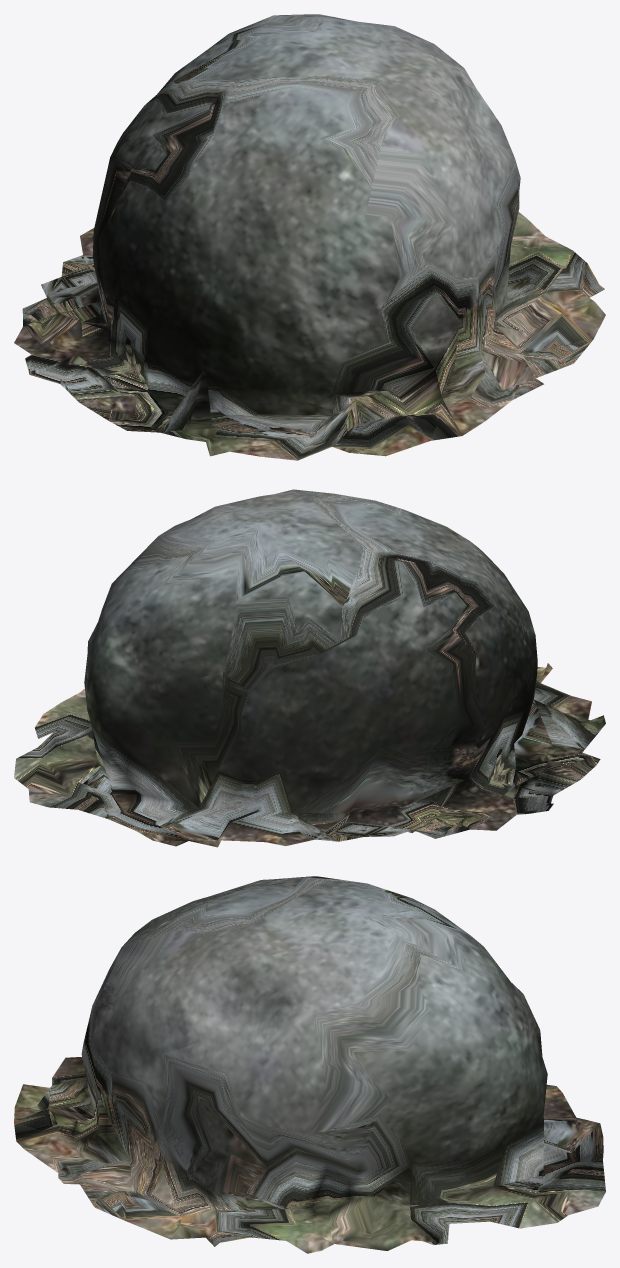
File: rock_boulder_lod2.glb
3 renders of one model, top to bottom at view 1: azimuth 30°, elevation 25°; view 2: azimuth 150°, elevation 25°; view 3: azimuth 270°, elevation 25°, orthographic. The views are drawn at different scales.
Parts seen in each view (by area): view 1: big_boulder; view 2: big_boulder; view 3: big_boulder.
Part boxes in pixels (x1,y1,x2,y2): big_boulder: [14, 14, 605, 460]; big_boulder: [14, 489, 605, 847]; big_boulder: [14, 876, 605, 1253].
Size of the model in its own units: 1.75 by 0.8416 by 1.8.
Materials: 1 (1 with a texture image).
